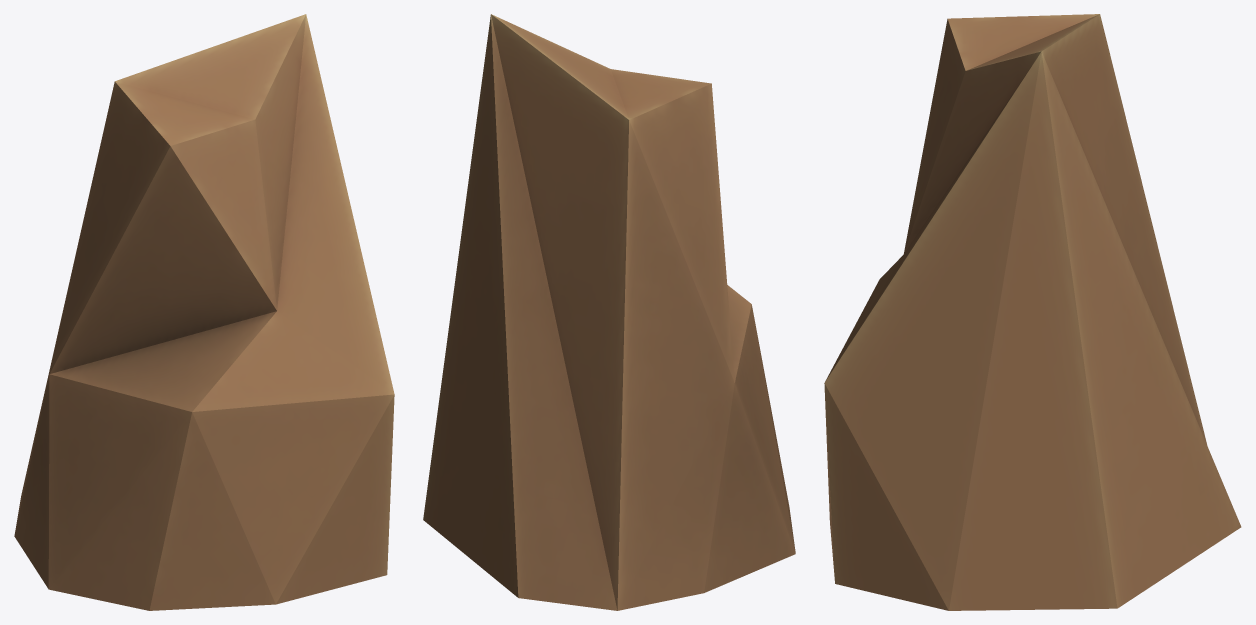
Rendered from Mountain rock_12.fbx.
3 views of the same model, side by side, from view 1: azimuth 30°, elevation 25°; view 2: azimuth 150°, elevation 25°; view 3: azimuth 270°, elevation 25° (orthographic). The views are drawn at different scales.
Visible parts, largest first — view 1: Mountain rock_12; view 2: Mountain rock_12; view 3: Mountain rock_12.
Boxes of the visible parts, x1,y1,x2,y2 form: Mountain rock_12: [14, 14, 394, 610]; Mountain rock_12: [423, 14, 795, 610]; Mountain rock_12: [824, 14, 1241, 610].
Size of the model in its own units: 207 by 303 by 212.
